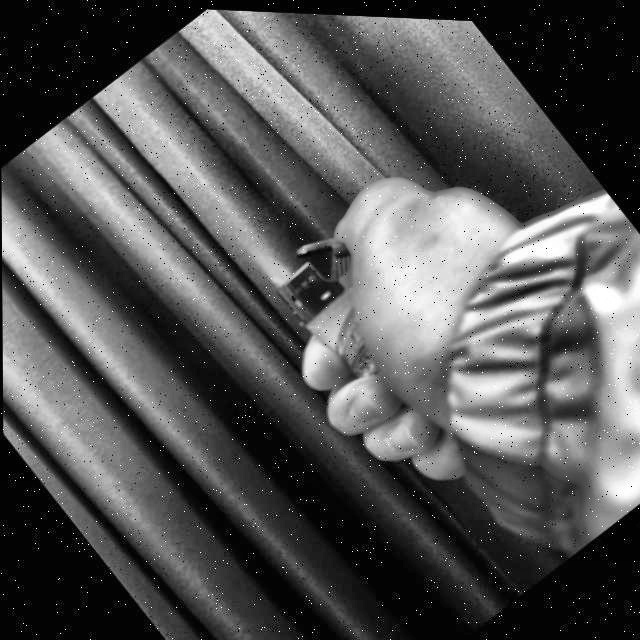Fire: (232, 218, 297, 291)
